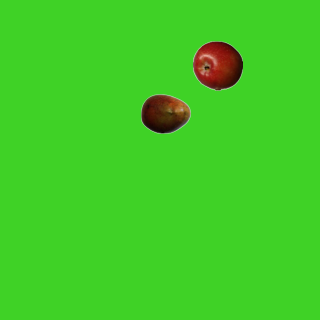Apple Braeburn: (192, 40, 242, 90)
Mango Red: (140, 88, 190, 138)
